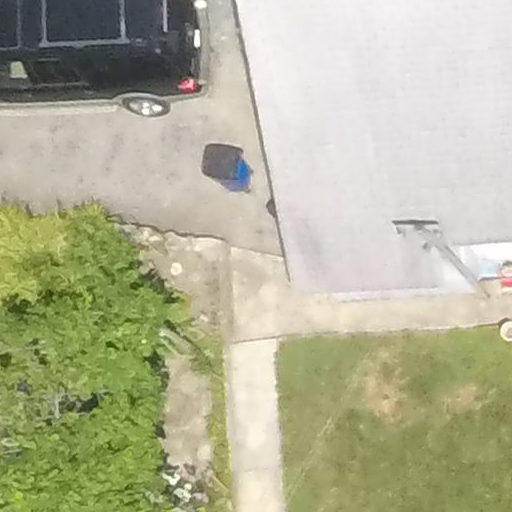container: (499, 317, 512, 344)
trash bin: (197, 129, 261, 209)
